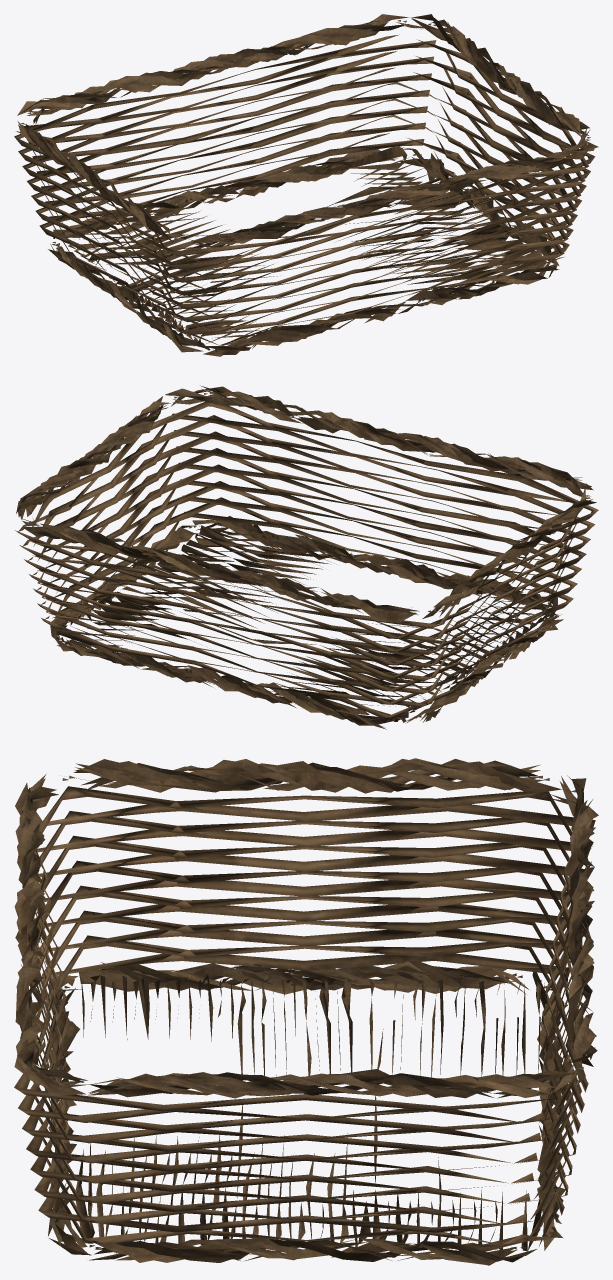
File: wicker_basket.glb
3 renders of one model, top to bottom at view 1: azimuth 30°, elevation 25°; view 2: azimuth 150°, elevation 25°; view 3: azimuth 270°, elevation 25°, orthographic. The views are drawn at different scales.
Parts seen in each view (by area): view 1: wicker_basket; view 2: wicker_basket; view 3: wicker_basket.
Part boxes in pixels (x1,y1,x2,y2): wicker_basket: [14, 14, 598, 356]; wicker_basket: [15, 385, 598, 729]; wicker_basket: [14, 758, 598, 1265].
Size of the model in its own units: 0.383 by 0.1185 by 0.2933.
1 material, 1 textured.
